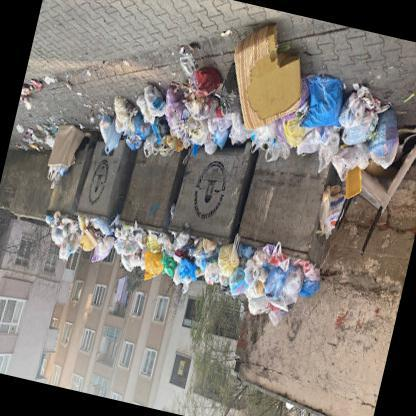Garbage: (180, 235, 326, 316), (95, 70, 176, 163), (322, 90, 402, 177), (164, 63, 235, 161), (96, 220, 187, 285), (245, 248, 306, 326), (273, 99, 330, 158), (44, 210, 104, 262), (44, 121, 86, 186), (316, 183, 350, 236)
